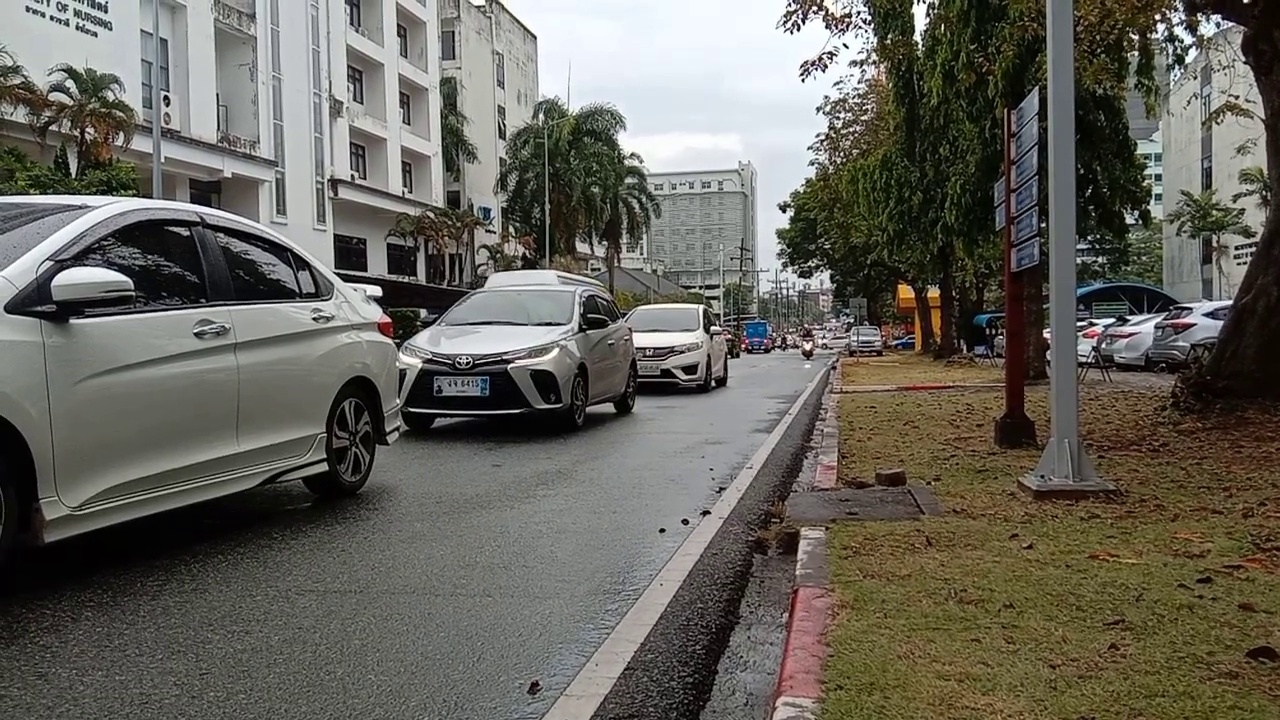License Plate: (431, 372, 489, 398)
